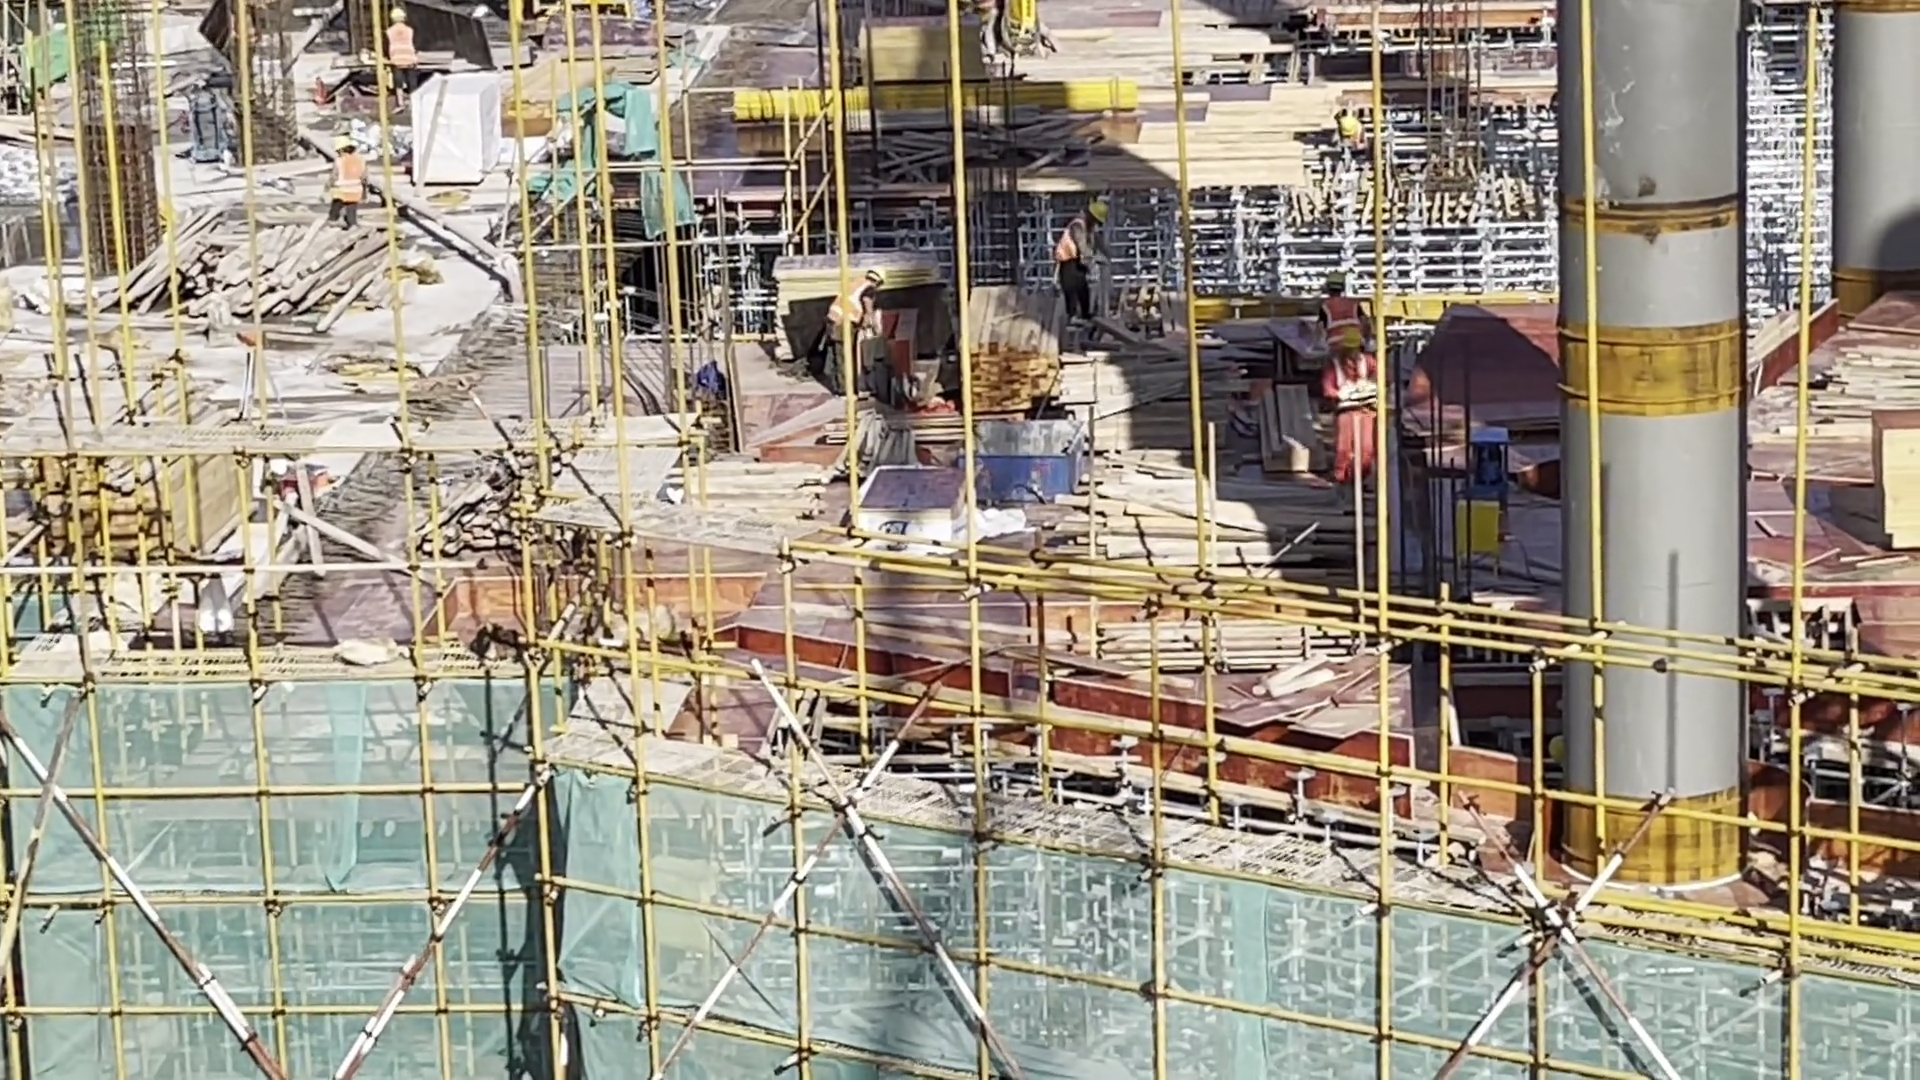helmet: (861, 259, 894, 292), (1080, 197, 1111, 230), (1334, 326, 1368, 356), (1334, 112, 1366, 141), (1324, 265, 1349, 297), (330, 135, 350, 151), (390, 8, 409, 24)
person: (1331, 320, 1386, 524), (822, 262, 894, 399), (1313, 266, 1380, 412), (1051, 199, 1115, 333), (318, 136, 373, 258), (1325, 102, 1370, 198), (386, 5, 425, 115)
vest: (325, 140, 369, 212), (1320, 296, 1374, 354), (1332, 352, 1379, 414), (825, 282, 875, 337), (1053, 217, 1096, 268), (388, 23, 416, 81)
